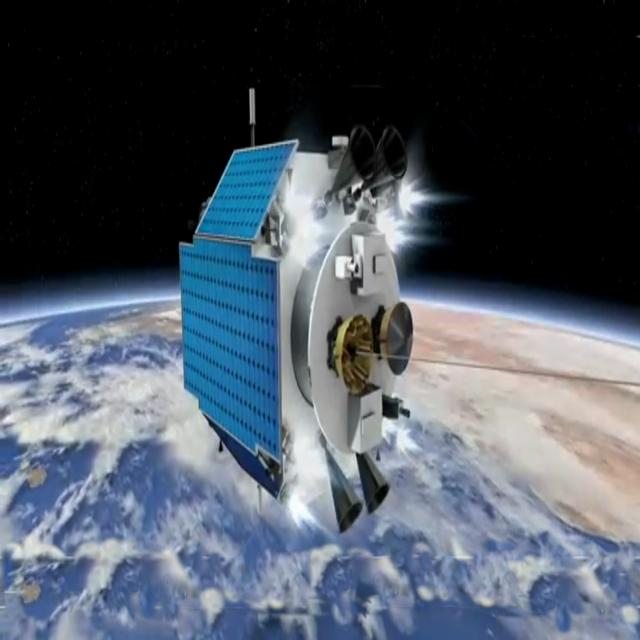medium_debris: (146, 76, 446, 554)
